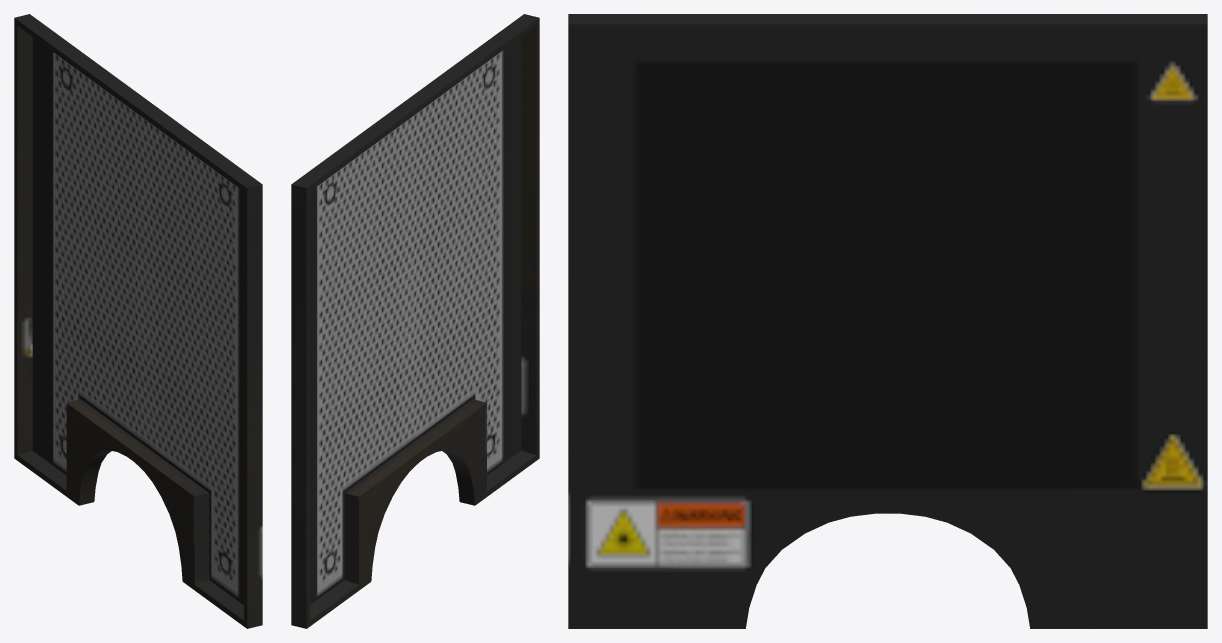
Rendered from SM_光谱仪_盖子.FBX.
3 renders of one model, left to right at view 1: azimuth 30°, elevation 25°; view 2: azimuth 150°, elevation 25°; view 3: azimuth 270°, elevation 25°, orthographic. The views are drawn at different scales.
Parts seen in each view (by area): view 1: SM_光谱仪_盖子; view 2: SM_光谱仪_盖子; view 3: SM_光谱仪_盖子.
Boxes of the visible parts, box(x1,y1,x2,y2) form: SM_光谱仪_盖子: box(14, 14, 262, 628); SM_光谱仪_盖子: box(291, 14, 539, 628); SM_光谱仪_盖子: box(568, 14, 1207, 628).
Size of the model in its own units: 0.0134 by 0.3643 by 0.3489.
